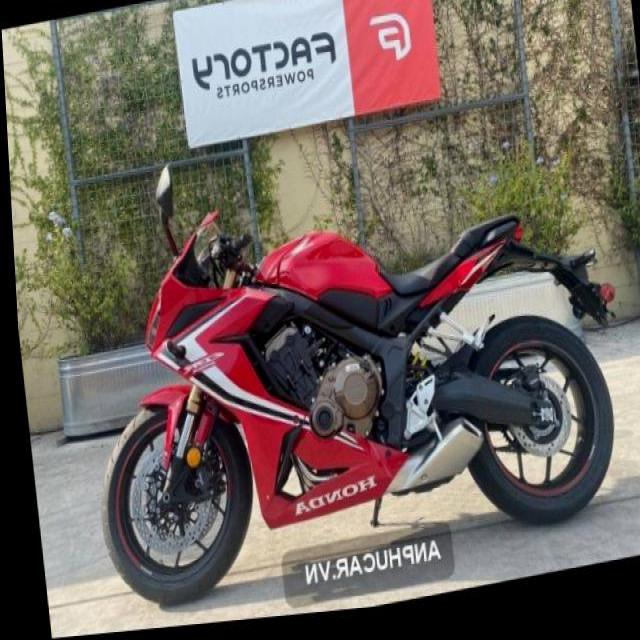CBR650R: (68, 150, 622, 614)
